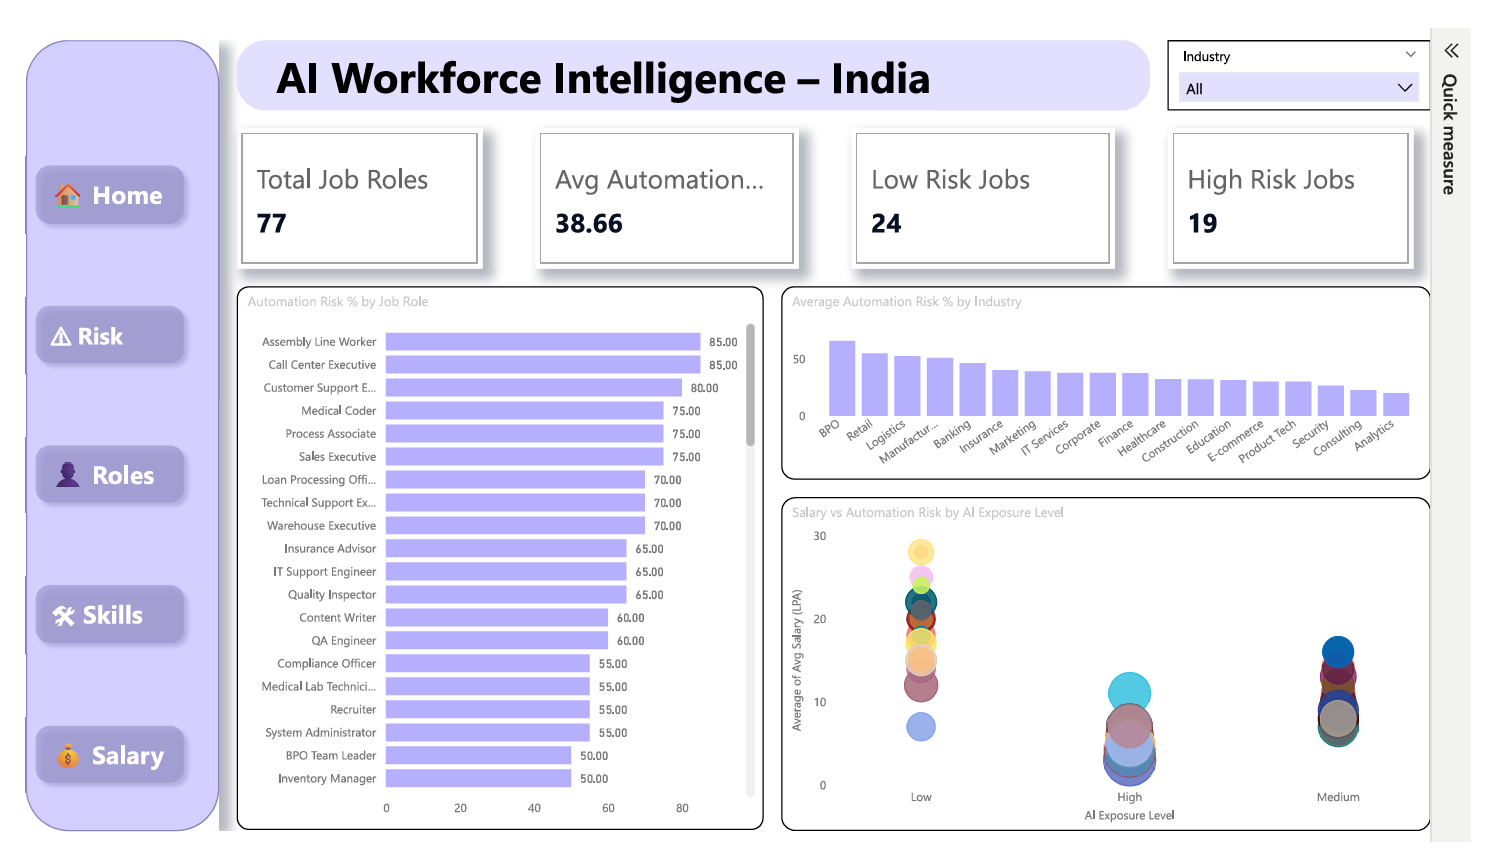

What the dashboard file says about the page in this screenshot:
{"tool":"powerbi","page":{"name":"Home","canvas":[1280,720],"ordinal":0},"visuals":[{"type":"group","id":"g1","title":"Sidebar","box":[0,0,176,720],"z":0},{"type":"shape","box":[0,0,176,720],"z":0,"group":"g1"},{"type":"shape","box":[192,0,832,64],"z":1000},{"type":"actionButton","box":[0,232.7,152.7,70.2],"z":1000,"group":"g1"},{"type":"cardVisual","title":"Total Tech Roles","fields":{"Data":["CountNonNull(Sheet1.Job Role)"]},"box":[192,80,224,128],"z":2000},{"type":"actionButton","box":[0,105.4,152.7,70.2],"z":2000,"group":"g1"},{"type":"cardVisual","fields":{"Data":["Sheet1.Low Risk Jobs"]},"box":[752,80,240,128],"z":3000},{"type":"actionButton","box":[0,360,152.7,70.2],"z":3000,"group":"g1"},{"type":"cardVisual","fields":{"Data":["Sheet1.Avg Automation Risk %"]},"box":[464,80,240,128],"z":4000},{"type":"actionButton","box":[0,487.3,152.7,70.2],"z":4000,"group":"g1"},{"type":"cardVisual","fields":{"Data":["Sheet1.High Risk Jobs"]},"box":[1040,80,224,128],"z":5000},{"type":"actionButton","box":[0,614.6,152.7,70.2],"z":5000,"group":"g1"},{"type":"clusteredBarChart","title":"Automation Risk % by Job Role","fields":{"Category":["Sheet1.Job Role"],"Y":["Avg(Sheet1.Automation Risk %)"]},"box":[192,224,480,495],"z":6000},{"type":"clusteredColumnChart","title":"Average Automation Risk % by Industry","fields":{"Category":["Sheet1.Industry"],"Y":["Avg(Sheet1.Automation Risk %)"]},"box":[688,224,592,176],"z":7000},{"type":"slicer","fields":{"Values":["Sheet1.Industry"]},"box":[1040,0,240,64],"z":8000},{"type":"scatterChart","title":"Salary vs Automation Risk by AI Exposure Level","fields":{"X":["Sheet1.AI Exposure Level"],"Y":["Avg(Sheet1.Avg Salary (LPA))"],"Series":["Sheet1.Job Role"],"Size":["Sum(Sheet1.Automation Risk %)"]},"box":[688,416,592,304],"z":9000}]}

Visuals, with their boxes in screenshot pixels (x1, y1, x2, y2):
"Sidebar" group: select_region(19, 31, 215, 830)
shape: select_region(19, 31, 215, 830)
shape: select_region(233, 31, 1156, 102)
actionButton: select_region(19, 289, 189, 367)
"Total Tech Roles" cardVisual: select_region(233, 120, 481, 262)
actionButton: select_region(19, 148, 189, 226)
cardVisual - Sheet1.Low Risk Jobs: select_region(854, 120, 1121, 262)
actionButton: select_region(19, 431, 189, 509)
cardVisual - Sheet1.Avg Automation Risk %: select_region(535, 120, 801, 262)
actionButton: select_region(19, 572, 189, 650)
cardVisual - Sheet1.High Risk Jobs: select_region(1174, 120, 1423, 262)
actionButton: select_region(19, 713, 189, 791)
"Automation Risk % by Job Role" clusteredBarChart: select_region(233, 280, 766, 829)
"Average Automation Risk % by Industry" clusteredColumnChart: select_region(783, 280, 1441, 475)
slicer - Sheet1.Industry: select_region(1174, 31, 1441, 102)
"Salary vs Automation Risk by AI Exposure Level" scatterChart: select_region(783, 493, 1441, 830)
